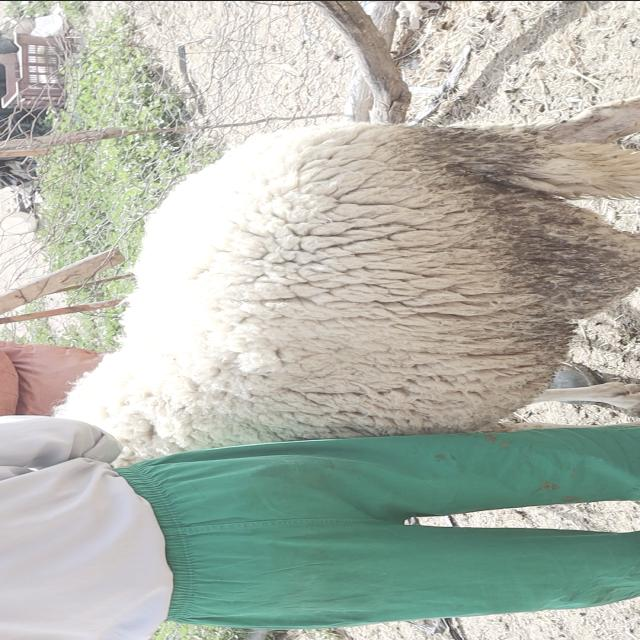Score_5: (59, 96, 639, 464)
